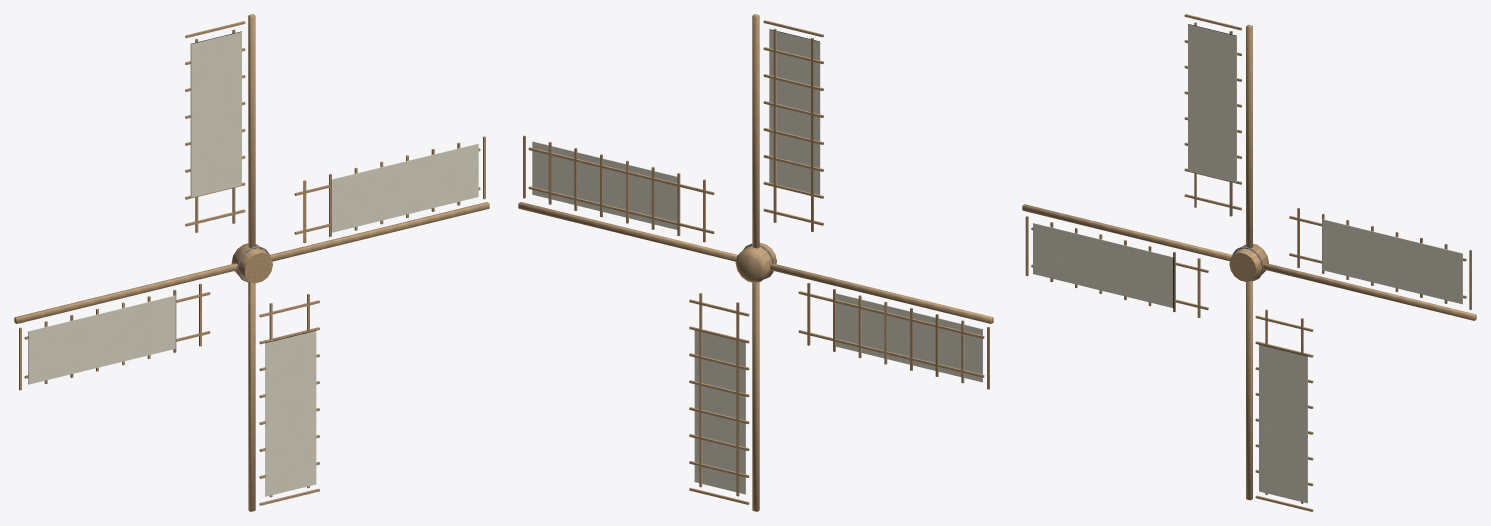
File: windmill_sails.gltf
3 renders of one model, left to right at view 1: azimuth 30°, elevation 25°; view 2: azimuth 150°, elevation 25°; view 3: azimuth 330°, elevation 25°, orthographic. The views are drawn at different scales.
Parts seen in each view (by area): view 1: windmill_sails; view 2: windmill_sails; view 3: windmill_sails.
Part boxes in pixels (left/top/right/bottom): windmill_sails: left=14, top=14, right=489, bottom=511; windmill_sails: left=518, top=14, right=993, bottom=511; windmill_sails: left=1022, top=14, right=1476, bottom=511.
Bounding box in the file's own units: 14 × 14 × 0.72.
1 material, 1 textured.
